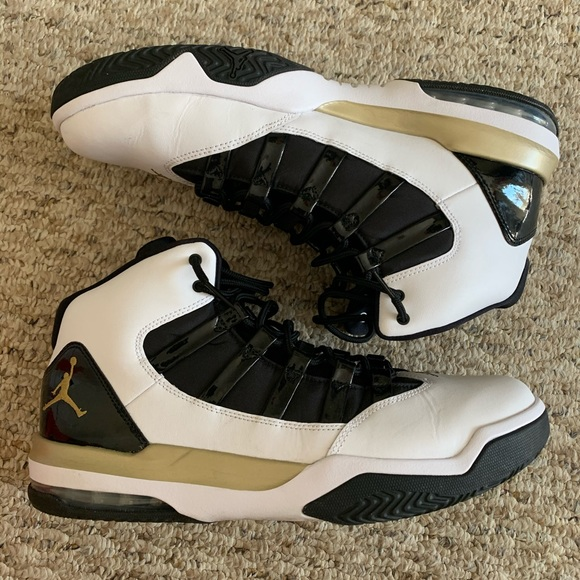shoes: (20, 230, 559, 529), (43, 46, 563, 344)
